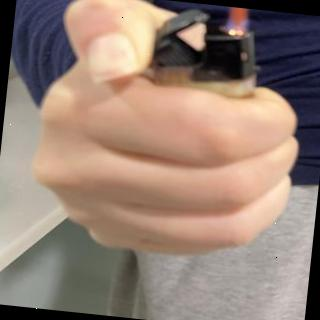fire: (220, 6, 254, 31)
